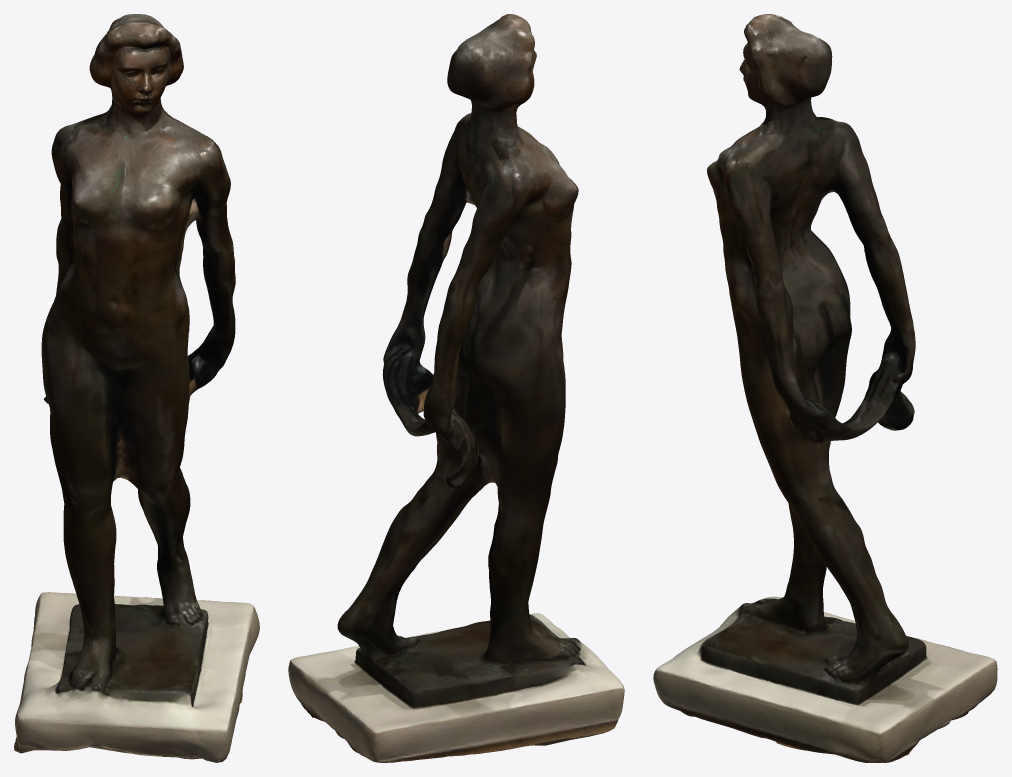
File: preview.glb
3 views of the same model, side by side, from view 1: azimuth 30°, elevation 25°; view 2: azimuth 150°, elevation 25°; view 3: azimuth 270°, elevation 25° (orthographic). The views are drawn at different scales.
Bounding box in the file's own units: 0.8094 × 1.88 × 0.8638.
1 material, 1 textured.
